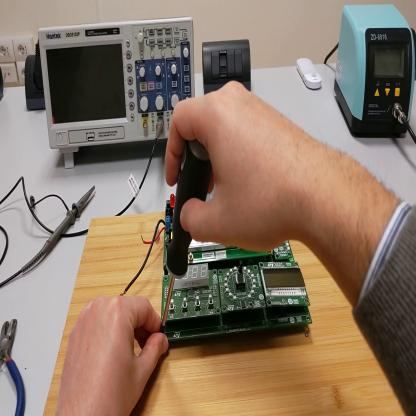hand: (166, 79, 301, 254), (60, 295, 169, 410)
low voltage board: (120, 195, 313, 341)
oscilloscope: (38, 18, 195, 171)
oscilloscope probe tip: (23, 188, 96, 276)
pliers: (3, 322, 28, 414)
screwdriver-: (161, 138, 212, 333)
socket: (24, 53, 47, 111), (1, 69, 5, 101)
welder station: (334, 5, 415, 139)
working area: (44, 212, 406, 416)
